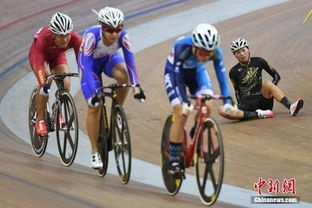falling: (221, 33, 307, 123)
